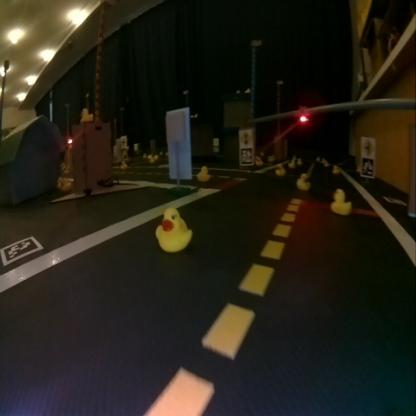Duckie: (154, 207, 192, 251), (331, 189, 350, 212), (296, 172, 308, 189), (79, 108, 92, 122), (196, 168, 210, 180), (60, 178, 70, 190), (274, 164, 284, 174)
Intersection sign: (360, 136, 374, 155)
QR code: (0, 236, 43, 263), (382, 195, 405, 205), (361, 158, 373, 176), (240, 148, 252, 163)
Signal sign: (238, 129, 252, 146)
Traffic light: (300, 108, 308, 123)
